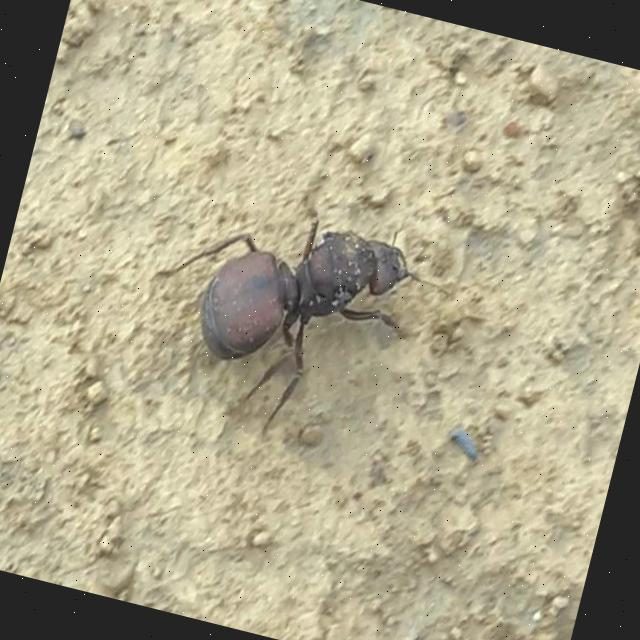Alive-Female-Dealate: (118, 151, 473, 475)
